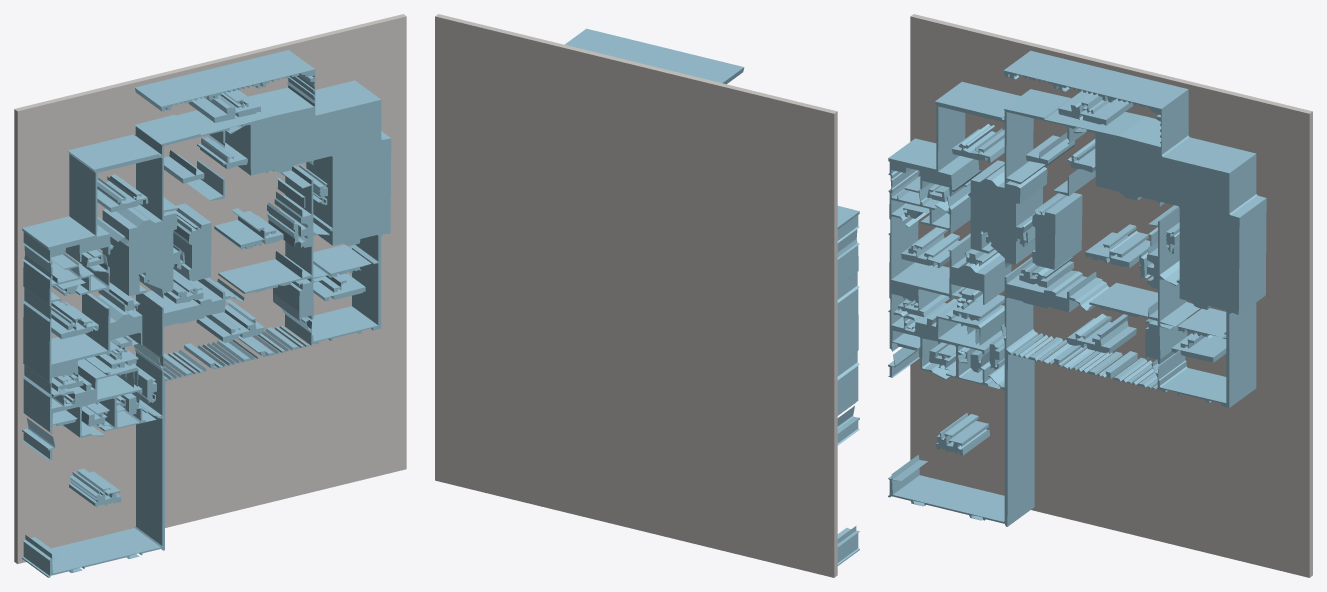
3 views of the same model, side by side, from view 1: azimuth 30°, elevation 25°; view 2: azimuth 150°, elevation 25°; view 3: azimuth 330°, elevation 25° (orthographic). The views are drawn at different scales.
Parts seen in each view (by area): view 1: world; view 2: world; view 3: world.
Boxes of the visible parts, left/top/right/bottom form: world: left=14, top=14, right=406, bottom=577; world: left=435, top=14, right=859, bottom=577; world: left=888, top=14, right=1312, bottom=577.
Bounding box in the file's own units: 10.23 × 11.37 × 1.35.
